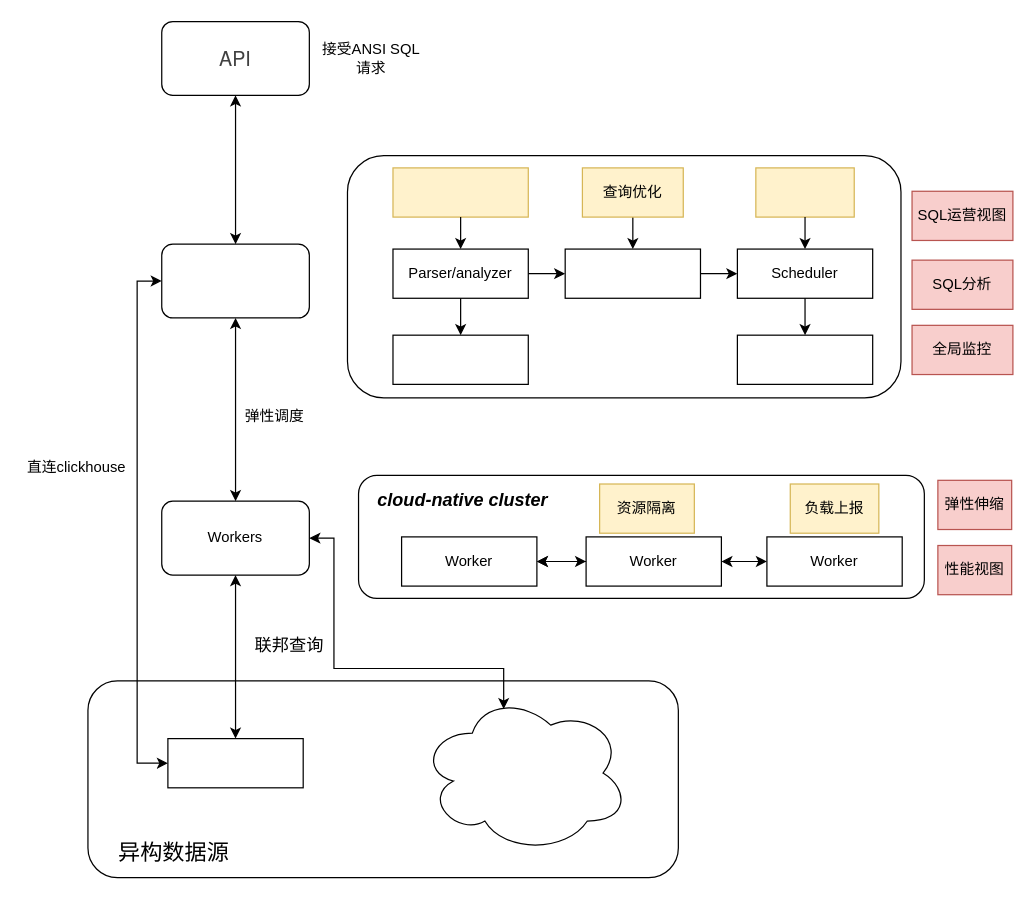
The diagram is 1034 pixels wide and 899 high, and some of its shapes have lost their labels. The centre of each missing label's shape, as x and y in pixels:
Clickhouse Cluster: point 235,762
Coordinator: point 235,280
Data Location API: point 804,359
HDFS Alluxio MySQL Redis Tcaplus ...: point 524,772
Metadata API: point 460,359
Planner: point 632,273
数据源管理: point 804,192
请求队列: point 460,192
